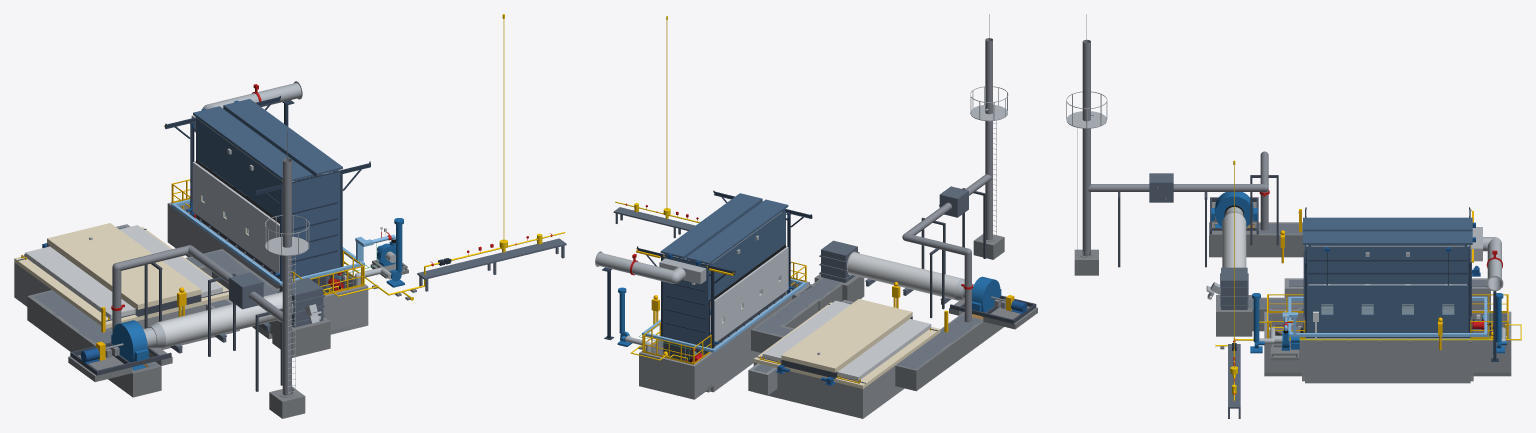
File: SHV-FUR-6700.glb
3 views of the same model, side by side, from view 1: azimuth 30°, elevation 25°; view 2: azimuth 150°, elevation 25°; view 3: azimuth 270°, elevation 25° (orthographic). The views are drawn at different scales.
Parts seen in each view (by area): view 1: ZEN-04 Wall sheeting, DRY-11a Raised centre fixed cover, CIV-10 Loop trenches and mixing-box pit, ZEN-07a West door / kettle cover, CIV-03 Furnace and burner pit walls, ZEN-09b Roof cover east, HRL-12 Suction duct Ã1100, ZEN-09a Roof cover west, DRY-02 Dryer door P1, STK-01 Stack Ã400 Ã 12 m, CIV-11 Trench cover plates, HRL-09 Bleed duct Ã400 (+18 smaller); view 2: ZEN-04 Wall sheeting, DRY-11a Raised centre fixed cover, CIV-03 Furnace and burner pit walls, CIV-10 Loop trenches and mixing-box pit, CIV-20 Dryer pit, ZEN-07a West door / kettle cover, CIV-11 Trench cover plates, HRL-12 Suction duct Ã1100, ZEN-09b Roof cover east, ZEN-09a Roof cover west, DRY-02 Dryer door P1, HRL-09 Bleed duct Ã400 (+21 smaller); view 3: CIV-03 Furnace and burner pit walls, ZEN-07b Skimming door east, ZEN-04 Wall sheeting, CIV-10 Loop trenches and mixing-box pit, ZEN-09a Roof cover west, ZEN-09b Roof cover east, STK-01 Stack Ã400 Ã 12 m, HRL-09 Bleed duct Ã400, HRL-12 Suction duct Ã1100, HRL-05 Mixing box S2, CA-150-103 Closed air ring 150 Ã 150, ZEN-04a Sheet stiffeners (+14 smaller).
Boxes of the visible parts, bbox=[...] form: ZEN-04 Wall sheeting: bbox=[196, 119, 340, 278]; DRY-11a Raised centre fixed cover: bbox=[47, 223, 201, 309]; CIV-10 Loop trenches and mixing-box pit: bbox=[27, 249, 330, 397]; ZEN-07a West door / kettle cover: bbox=[192, 162, 279, 272]; CIV-03 Furnace and burner pit walls: bbox=[167, 202, 368, 334]; ZEN-09b Roof cover east: bbox=[223, 99, 342, 177]; HRL-12 Suction duct Ã1100: bbox=[157, 291, 292, 347]; ZEN-09a Roof cover west: bbox=[193, 106, 312, 181]; DRY-02 Dryer door P1: bbox=[25, 246, 135, 319]; STK-01 Stack Ã400 Ã 12 m: bbox=[282, 130, 291, 395]; CIV-11 Trench cover plates: bbox=[30, 250, 278, 371]; HRL-09 Bleed duct Ã400: bbox=[112, 245, 282, 333]; ZEN-04 Wall sheeting: bbox=[663, 210, 785, 346]; DRY-11a Raised centre fixed cover: bbox=[781, 299, 912, 372]; CIV-03 Furnace and burner pit walls: bbox=[639, 281, 809, 399]; CIV-10 Loop trenches and mixing-box pit: bbox=[751, 274, 1003, 391]; CIV-20 Dryer pit: bbox=[753, 362, 904, 418]; ZEN-07a West door / kettle cover: bbox=[714, 247, 788, 341]; CIV-11 Trench cover plates: bbox=[754, 277, 982, 369]; HRL-12 Suction duct Ã1100: bbox=[846, 251, 961, 300]; ZEN-09b Roof cover east: bbox=[660, 193, 762, 259]; ZEN-09a Roof cover west: bbox=[686, 199, 788, 264]; DRY-02 Dryer door P1: bbox=[837, 319, 931, 380]; HRL-09 Bleed duct Ã400: bbox=[902, 174, 992, 322]; CIV-03 Furnace and burner pit walls: bbox=[1264, 311, 1511, 383]; ZEN-07b Skimming door east: bbox=[1307, 284, 1468, 332]; ZEN-04 Wall sheeting: bbox=[1304, 245, 1469, 320]; CIV-10 Loop trenches and mixing-box pit: bbox=[1209, 222, 1373, 336]; ZEN-09a Roof cover west: bbox=[1303, 217, 1472, 231]; ZEN-09b Roof cover east: bbox=[1303, 231, 1472, 245]; STK-01 Stack Ã400 Ã 12 m: bbox=[1082, 14, 1090, 256]; HRL-09 Bleed duct Ã400: bbox=[1087, 151, 1268, 230]; HRL-12 Suction duct Ã1100: bbox=[1222, 213, 1246, 267]; HRL-05 Mixing box S2: bbox=[1220, 267, 1248, 309]; CA-150-103 Closed air ring 150 Ã 150: bbox=[1288, 296, 1487, 336]; ZEN-04a Sheet stiffeners: bbox=[1303, 251, 1471, 316].
Bounding box in the file's own units: 25180 × 16150 × 22550.
